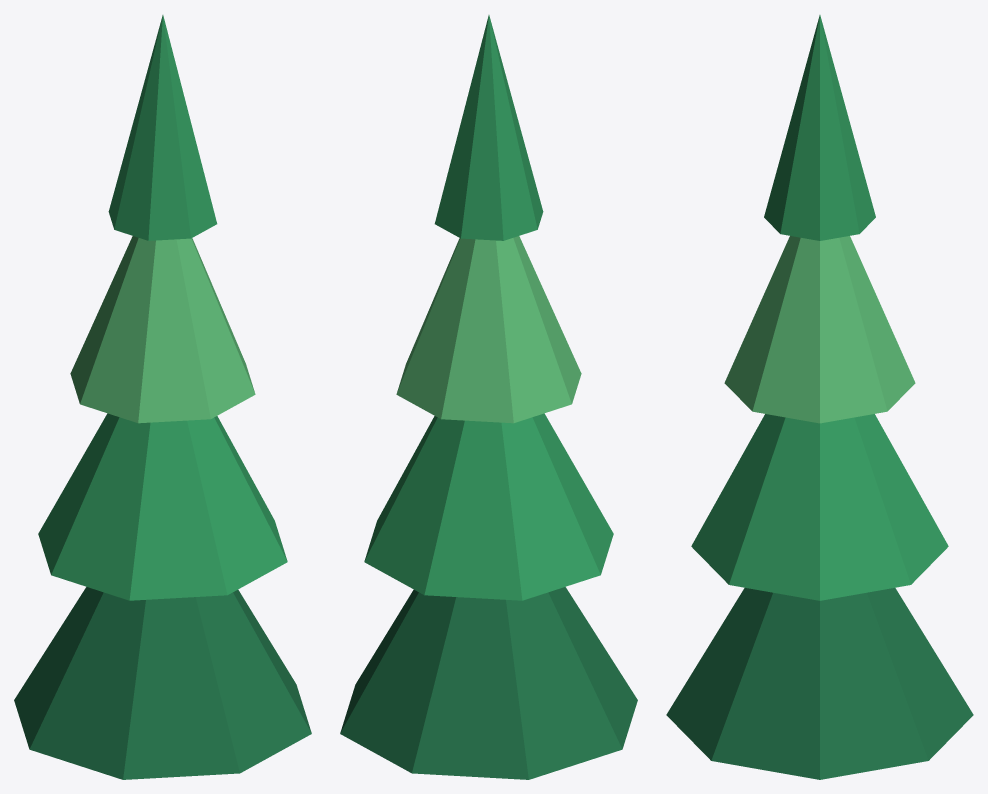
File: Redcedar.glb
The picture shows the model from 3 angles, left to right: view 1: azimuth 30°, elevation 25°; view 2: azimuth 150°, elevation 25°; view 3: azimuth 270°, elevation 25°; orthographic projection.
Visible parts, largest first — view 1: FTF_Nature_EasternRedcedar_Tall_8m_Mesh; view 2: FTF_Nature_EasternRedcedar_Tall_8m_Mesh; view 3: FTF_Nature_EasternRedcedar_Tall_8m_Mesh.
Part boxes in pixels (x1=…): FTF_Nature_EasternRedcedar_Tall_8m_Mesh: x1=14, y1=15, x2=311, y2=779; FTF_Nature_EasternRedcedar_Tall_8m_Mesh: x1=340, y1=15, x2=637, y2=779; FTF_Nature_EasternRedcedar_Tall_8m_Mesh: x1=666, y1=15, x2=973, y2=779.
Size of the model in its own units: 2.96 by 7.8 by 2.96.
